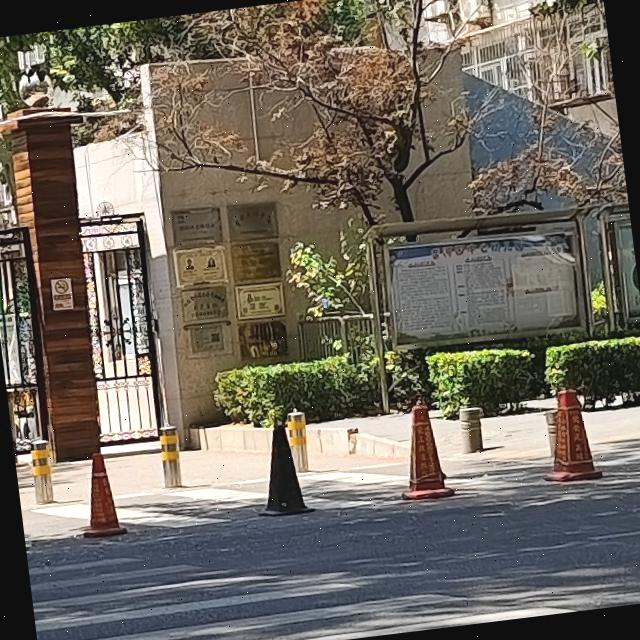curb: (306, 428, 406, 460), (199, 425, 269, 452)
